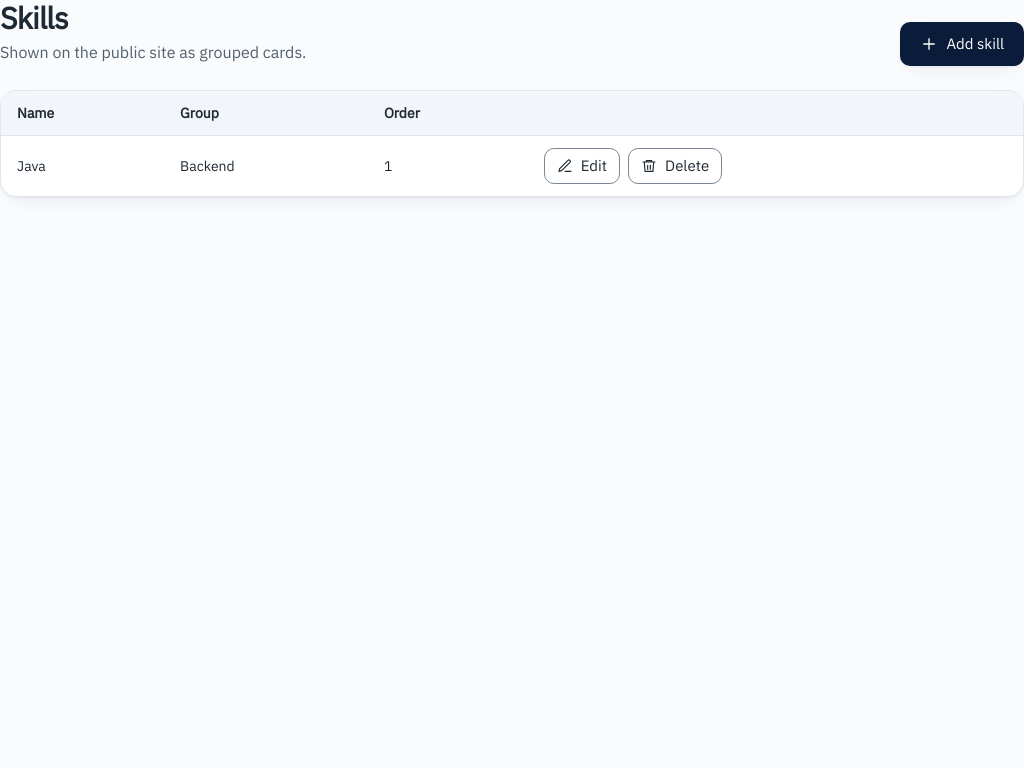
Test case: SkillsPage (config-driven CRUD) › asks for confirmation before deleting, and only deletes after Confirm
This screenshot has width=1024, height=768.
Click the button with aria-label "Delete Java" at (675, 166), box [628,148,722,184]
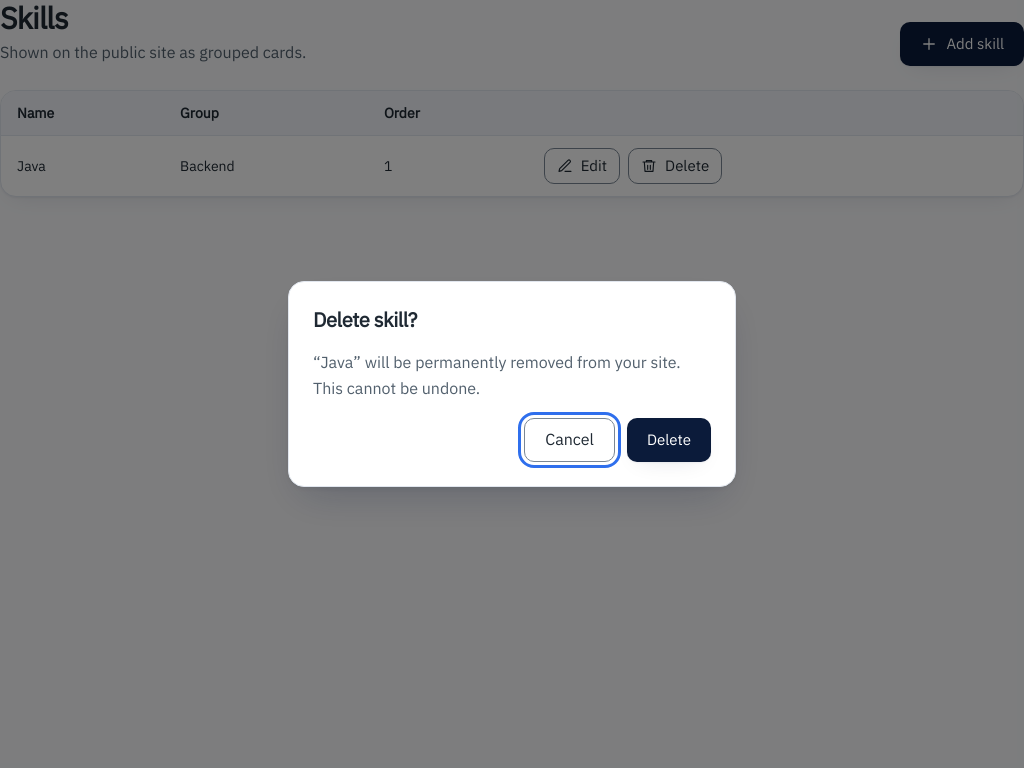
Expected: the dialog "Delete skill?" shows "“Java” will be permanently removed", [313,352,681,398]
Click the button "Cancel" at (570, 440), box [524,418,615,462]
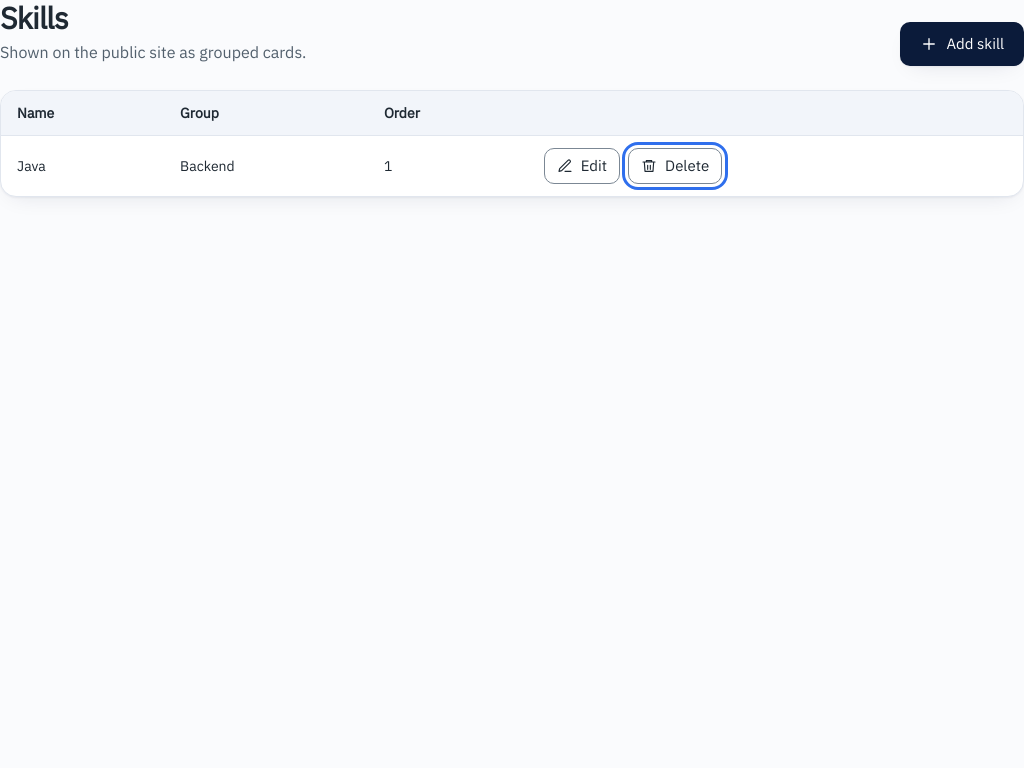
Expected: the dialog is gone
Click the button with aria-label "Delete Java" at (675, 166), box [628,148,722,184]
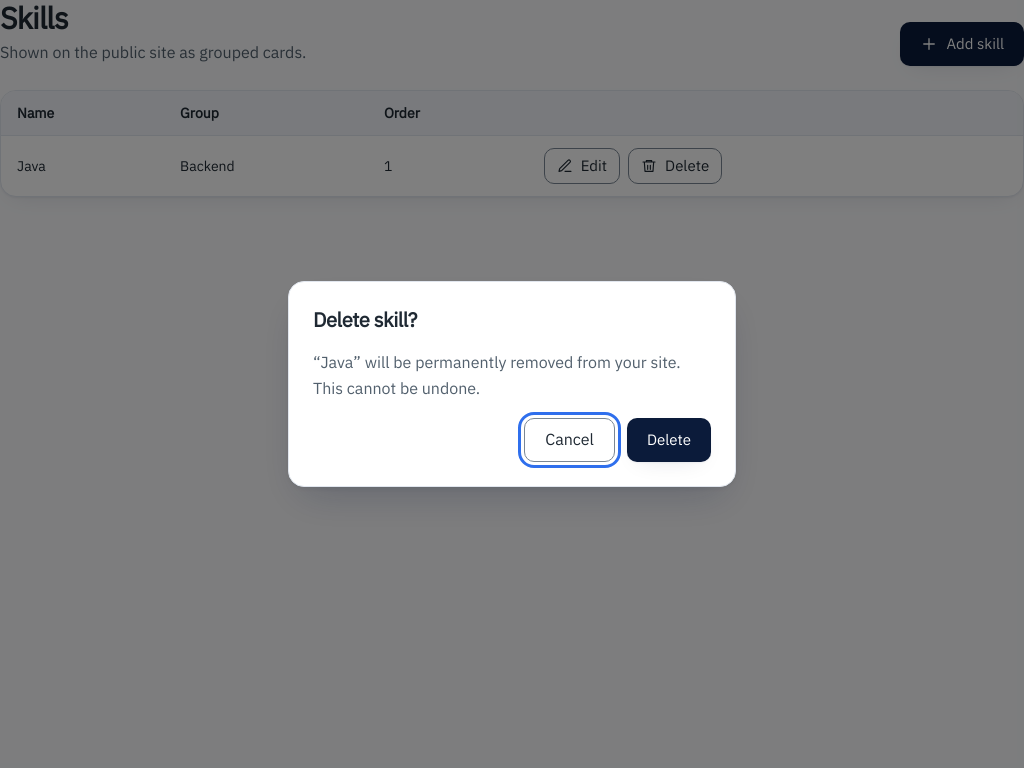
Click the button "Delete" at (669, 440), box [627,418,711,462]
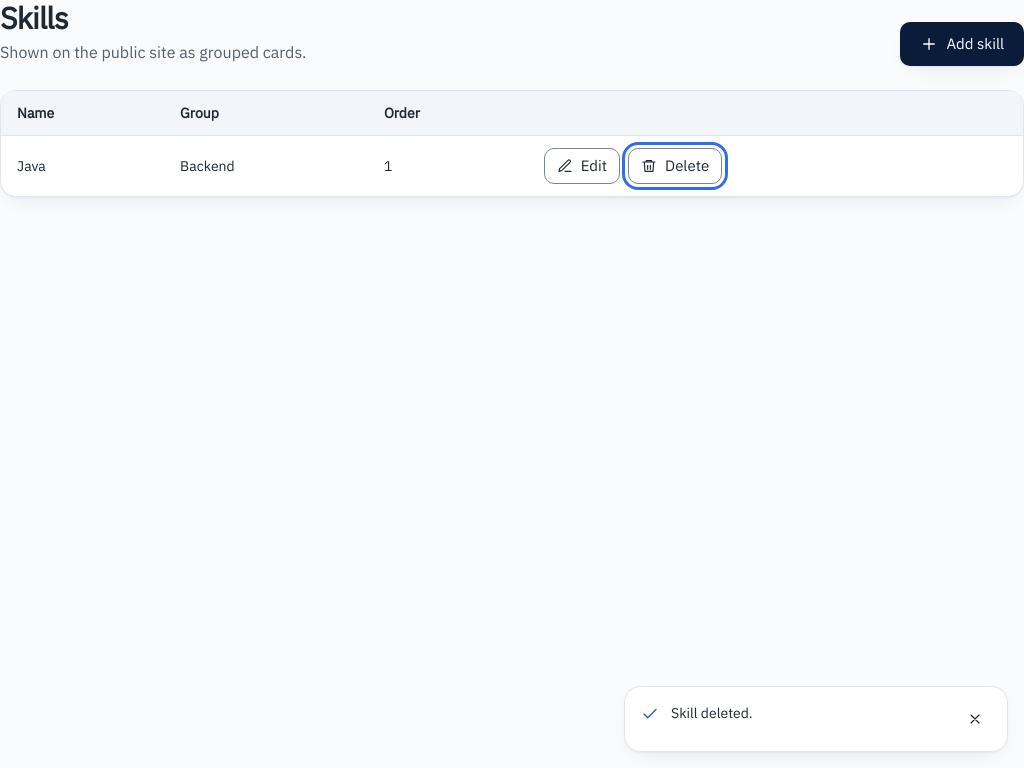
Expected: the text "Skill deleted." is shown, [671,704,753,722]
